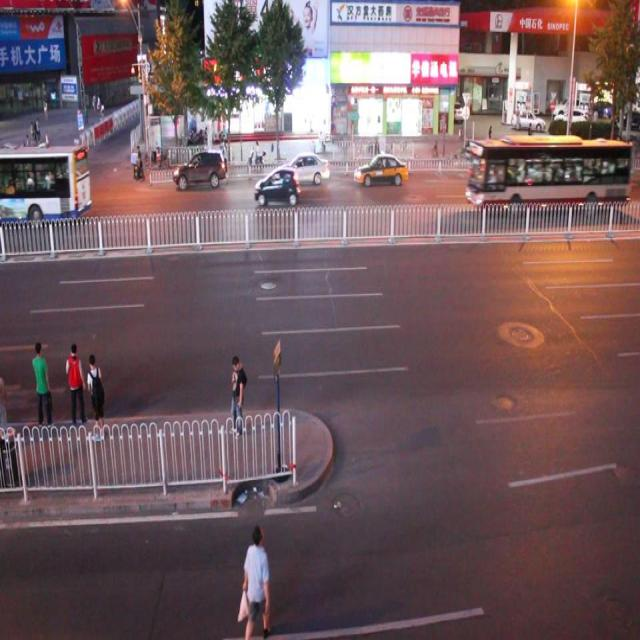car: (465, 136, 632, 212), (1, 143, 92, 228), (173, 147, 227, 188), (353, 152, 408, 187), (274, 151, 328, 186), (252, 169, 299, 206), (8, 176, 61, 208), (1, 164, 12, 196)
